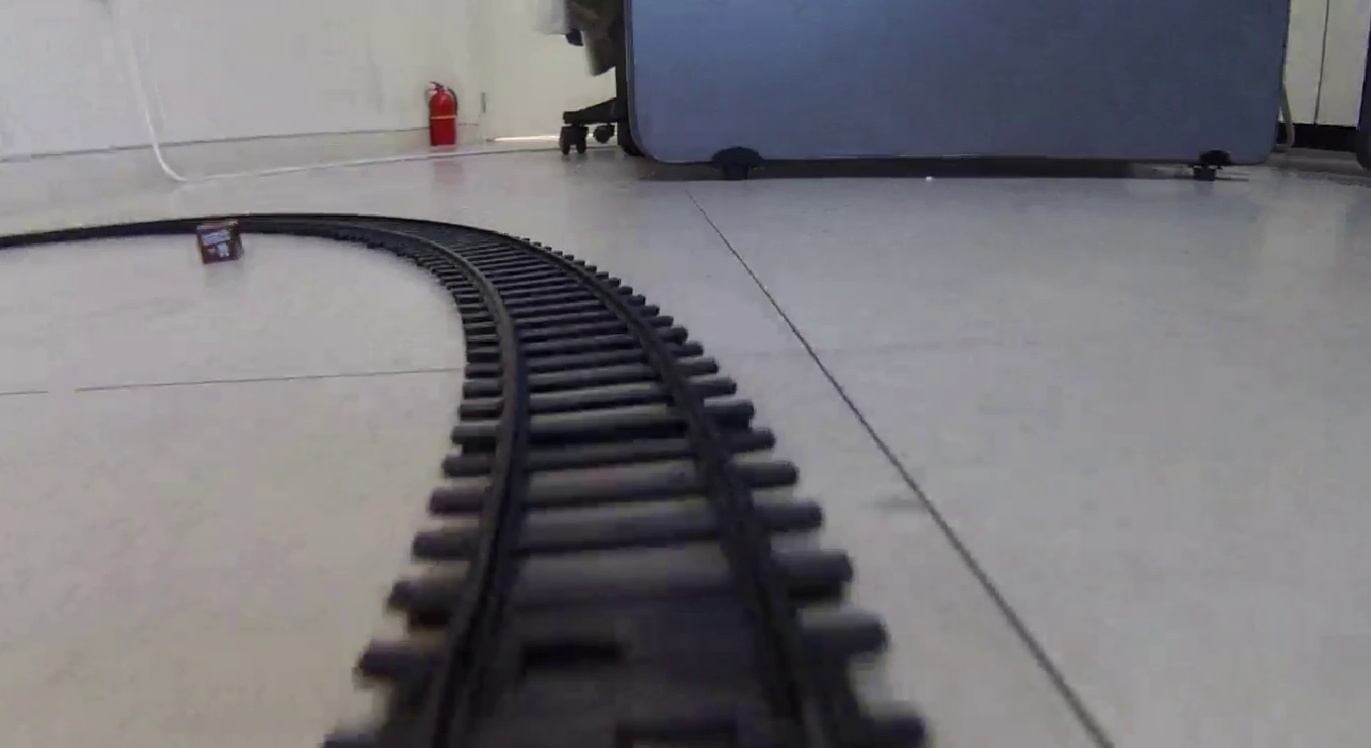box: (195, 220, 244, 263)
